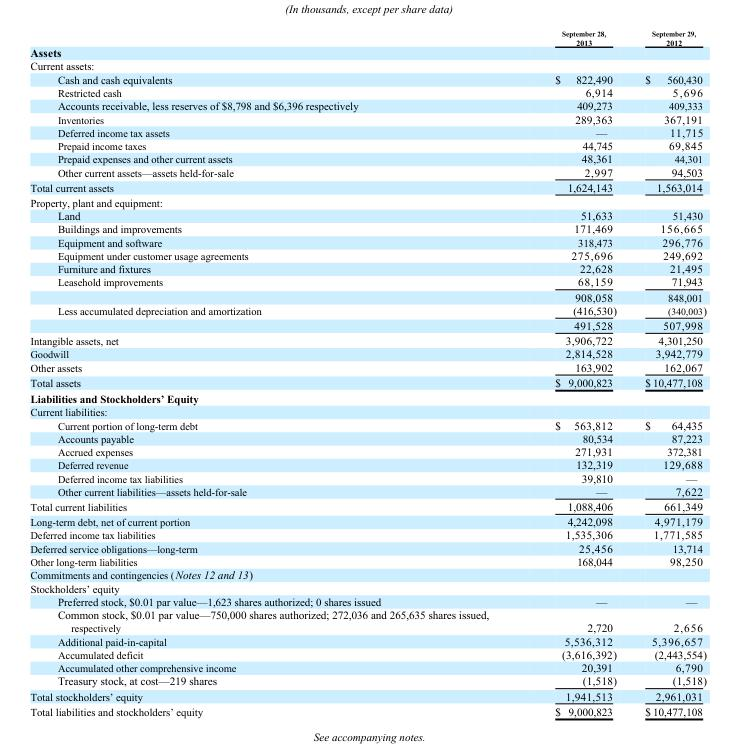table: (29, 28, 705, 717)
table column: (29, 28, 521, 717), (521, 28, 630, 717), (630, 28, 705, 717)
table column header: (29, 28, 705, 46)
table projected row header: (29, 390, 705, 405), (29, 194, 705, 208), (29, 567, 705, 581), (29, 46, 705, 59), (29, 59, 705, 72), (29, 405, 705, 418), (29, 581, 705, 594)
table row: (29, 607, 705, 634), (29, 28, 705, 46), (29, 374, 705, 390), (29, 179, 705, 194), (29, 317, 705, 332), (29, 332, 705, 347), (29, 390, 705, 405), (29, 498, 705, 513), (29, 673, 705, 688), (29, 688, 705, 703), (29, 98, 705, 112), (29, 151, 705, 165), (29, 165, 705, 179), (29, 194, 705, 208), (29, 221, 705, 235), (29, 261, 705, 275), (29, 275, 705, 289), (29, 289, 705, 303), (29, 303, 705, 317), (29, 360, 705, 374), (29, 457, 705, 471), (29, 484, 705, 498), (29, 513, 705, 527), (29, 527, 705, 541), (29, 567, 705, 581), (29, 703, 705, 717), (29, 46, 705, 59), (29, 59, 705, 72), (29, 72, 705, 85), (29, 85, 705, 98), (29, 112, 705, 125), (29, 125, 705, 138), (29, 138, 705, 151), (29, 208, 705, 221), (29, 235, 705, 248), (29, 248, 705, 261), (29, 347, 705, 360), (29, 405, 705, 418), (29, 418, 705, 431), (29, 431, 705, 444), (29, 444, 705, 457), (29, 471, 705, 484), (29, 541, 705, 554), (29, 554, 705, 567), (29, 581, 705, 594), (29, 594, 705, 607), (29, 634, 705, 647), (29, 647, 705, 660), (29, 660, 705, 673)
